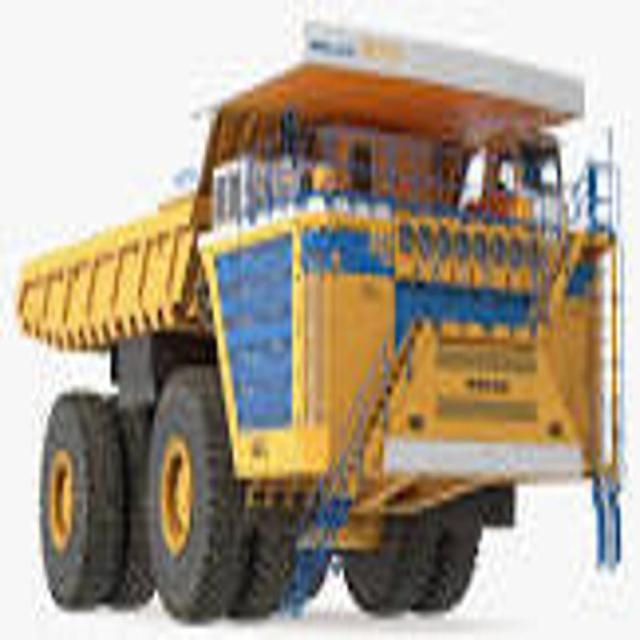dump_truck: (20, 31, 624, 631)
